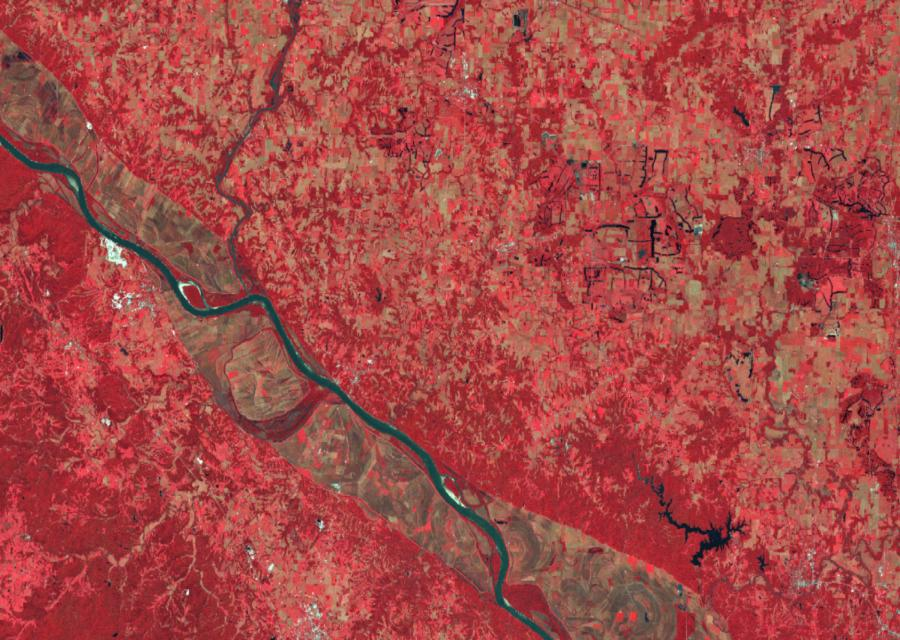Potential Lime Manufacturing Facility: (103, 233, 125, 272)
